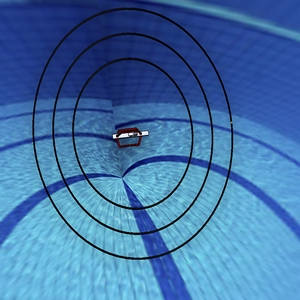circle: (24, 2, 247, 267)
submarine: (104, 117, 154, 158)
